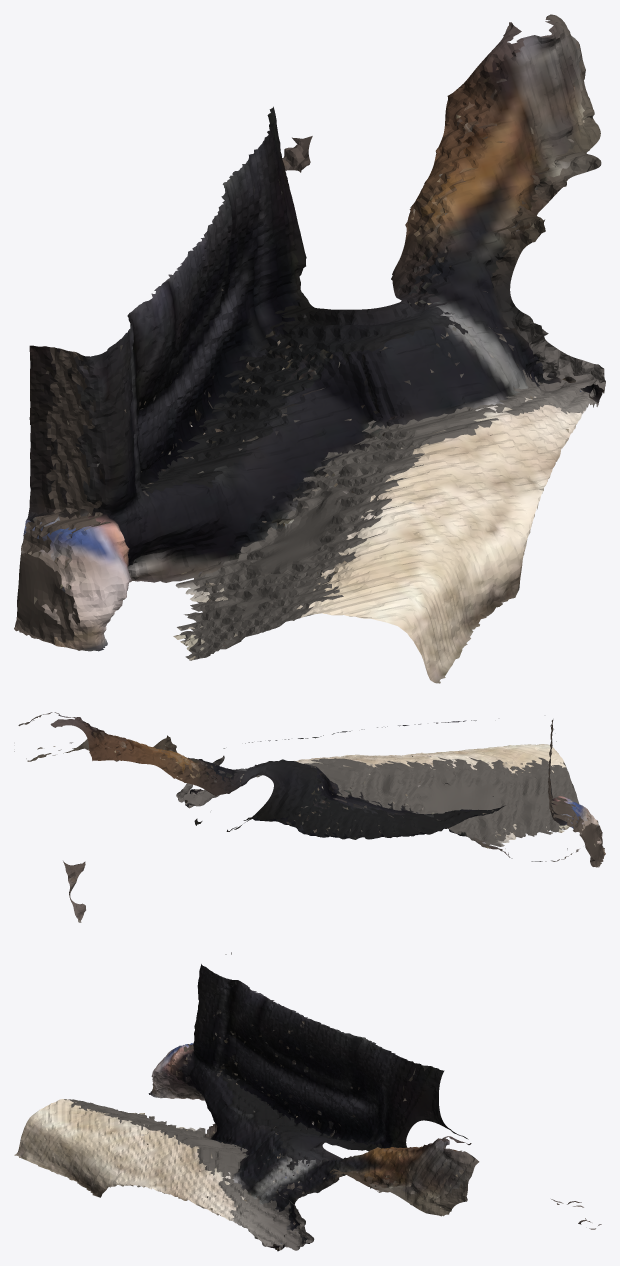
3 views of the same model, one above another, from view 1: azimuth 30°, elevation 25°; view 2: azimuth 150°, elevation 25°; view 3: azimuth 270°, elevation 25° (orthographic). The views are drawn at different scales.
Bounding box in the file's own units: 1.44 × 0.4299 × 1.61.
Materials: 1 (1 with a texture image).
